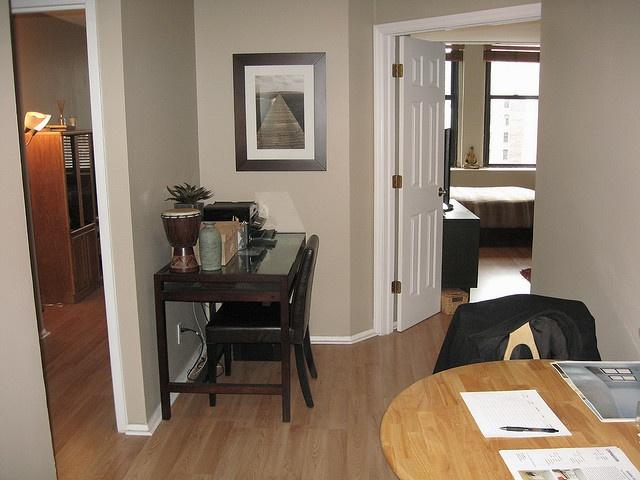Kursi: (204, 233, 318, 408)
Meja: (152, 231, 306, 307)
